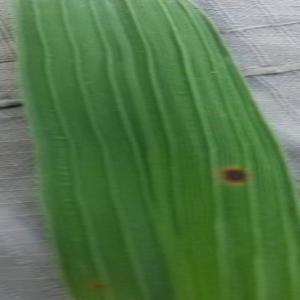Brown_Spot: (212, 159, 256, 191), (86, 279, 114, 294)
